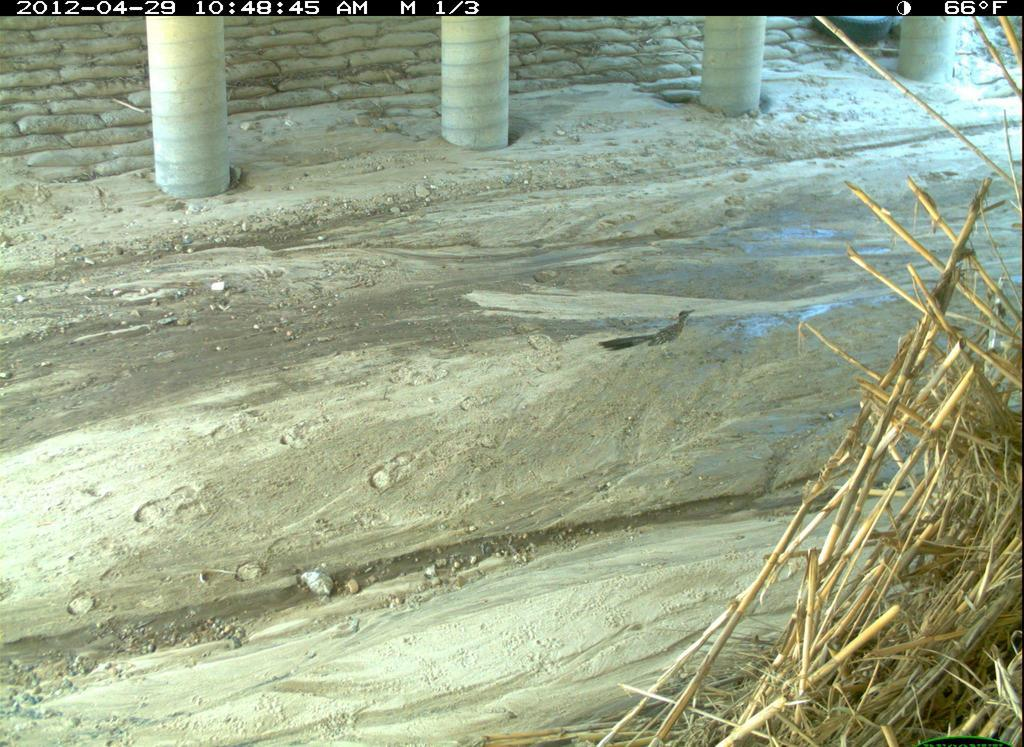bird: (592, 303, 705, 363)
